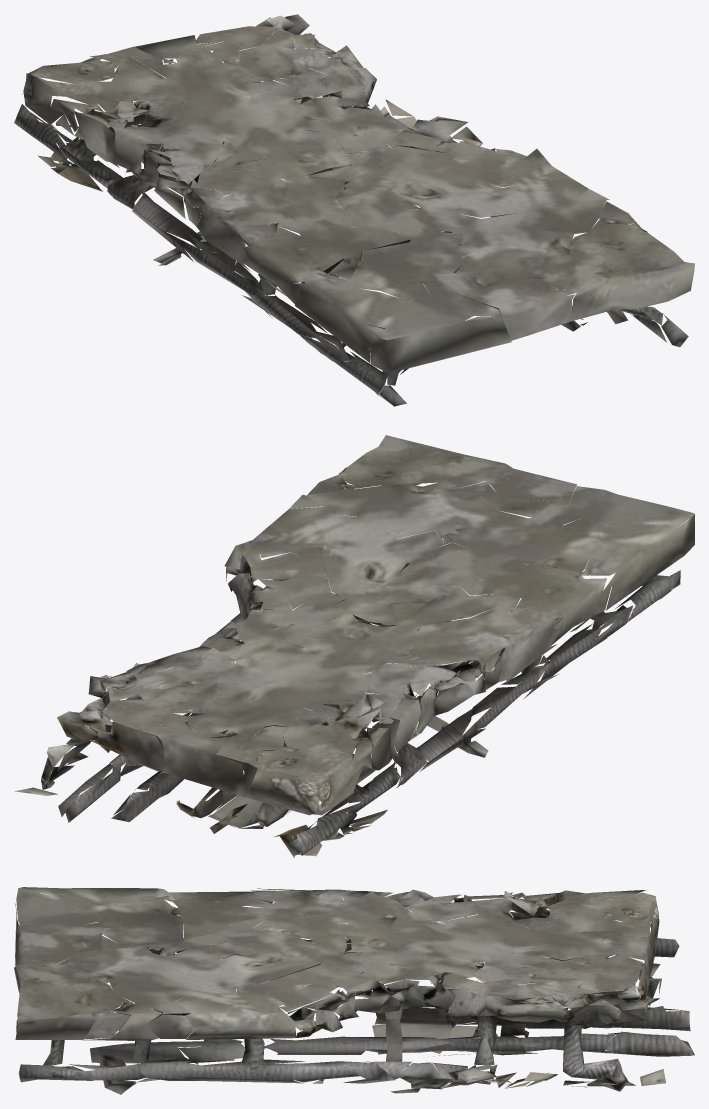
Rendered from slab_rebar.glb.
3 views of the same model, one above another, from view 1: azimuth 30°, elevation 25°; view 2: azimuth 150°, elevation 25°; view 3: azimuth 270°, elevation 25° (orthographic). The views are drawn at different scales.
Parts seen in each view (by area): view 1: tripo_node_287aa845-c84d-42a4-9e95-8e3a169d135a; view 2: tripo_node_287aa845-c84d-42a4-9e95-8e3a169d135a; view 3: tripo_node_287aa845-c84d-42a4-9e95-8e3a169d135a.
Boxes of the visible parts, left/top/right/bottom form: tripo_node_287aa845-c84d-42a4-9e95-8e3a169d135a: left=14, top=14, right=694, bottom=406; tripo_node_287aa845-c84d-42a4-9e95-8e3a169d135a: left=15, top=435, right=694, bottom=858; tripo_node_287aa845-c84d-42a4-9e95-8e3a169d135a: left=14, top=887, right=694, bottom=1094.
Size of the model in its own units: 1.01 by 0.3024 by 1.93.
1 material, 1 textured.
